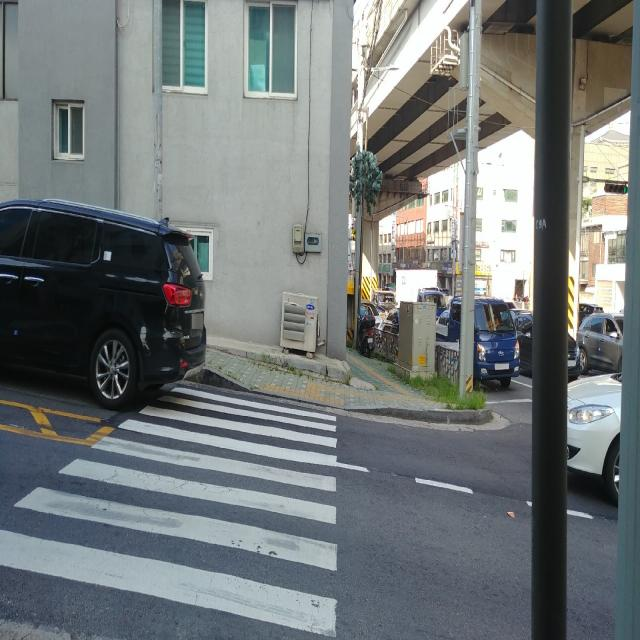횡단보도: (3, 386, 338, 634)
